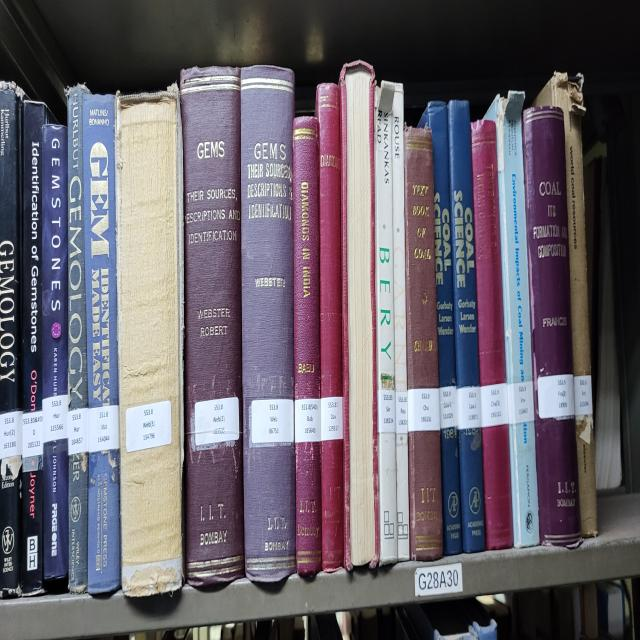Book: (115, 84, 184, 598), (180, 68, 244, 584), (534, 73, 598, 536), (240, 65, 296, 582), (522, 106, 581, 547), (485, 92, 539, 547), (82, 95, 121, 593), (419, 103, 461, 555), (471, 119, 512, 549), (448, 100, 485, 552), (405, 127, 442, 560), (21, 100, 51, 595), (316, 84, 344, 571), (292, 116, 321, 574), (42, 124, 69, 582), (375, 81, 398, 563), (392, 84, 410, 560), (0, 84, 22, 414), (68, 84, 89, 414), (69, 444, 89, 593)
Label: (126, 400, 171, 452), (195, 398, 240, 446), (251, 398, 294, 444), (538, 373, 575, 419), (408, 387, 440, 433), (89, 406, 119, 452), (480, 381, 509, 427), (42, 395, 68, 444), (295, 398, 321, 444), (508, 381, 534, 425), (0, 411, 22, 460), (458, 387, 481, 430), (22, 411, 42, 460), (68, 409, 89, 455), (321, 398, 342, 441), (439, 387, 458, 430), (378, 390, 396, 433), (574, 376, 592, 417), (395, 390, 408, 433)
